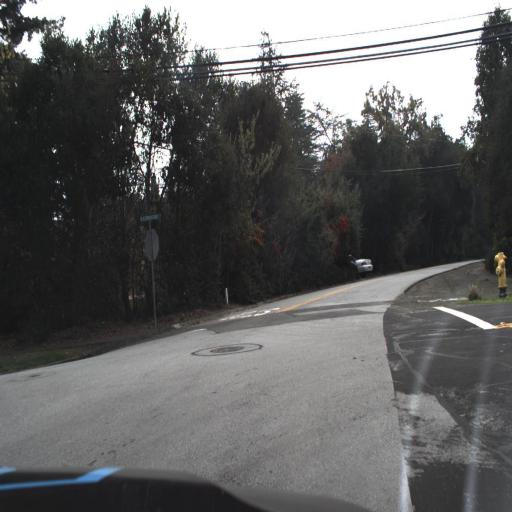car: (349, 244, 384, 283), (349, 252, 373, 274)
